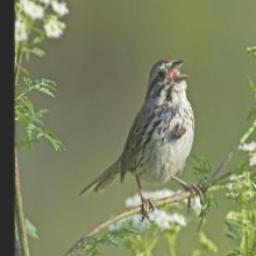Sparrow: (78, 56, 209, 225)
